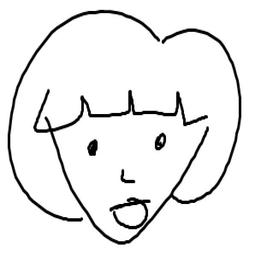open_mouth: (110, 199, 149, 232)
pointy_nose: (112, 163, 141, 187)
small_eye: (149, 131, 171, 156), (83, 135, 101, 160)
